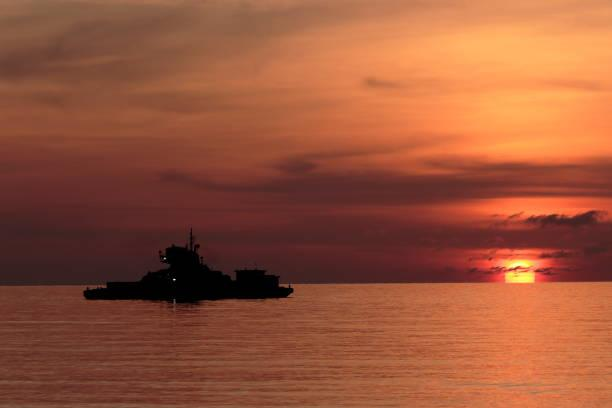MIL_Ship: (81, 225, 296, 305)
